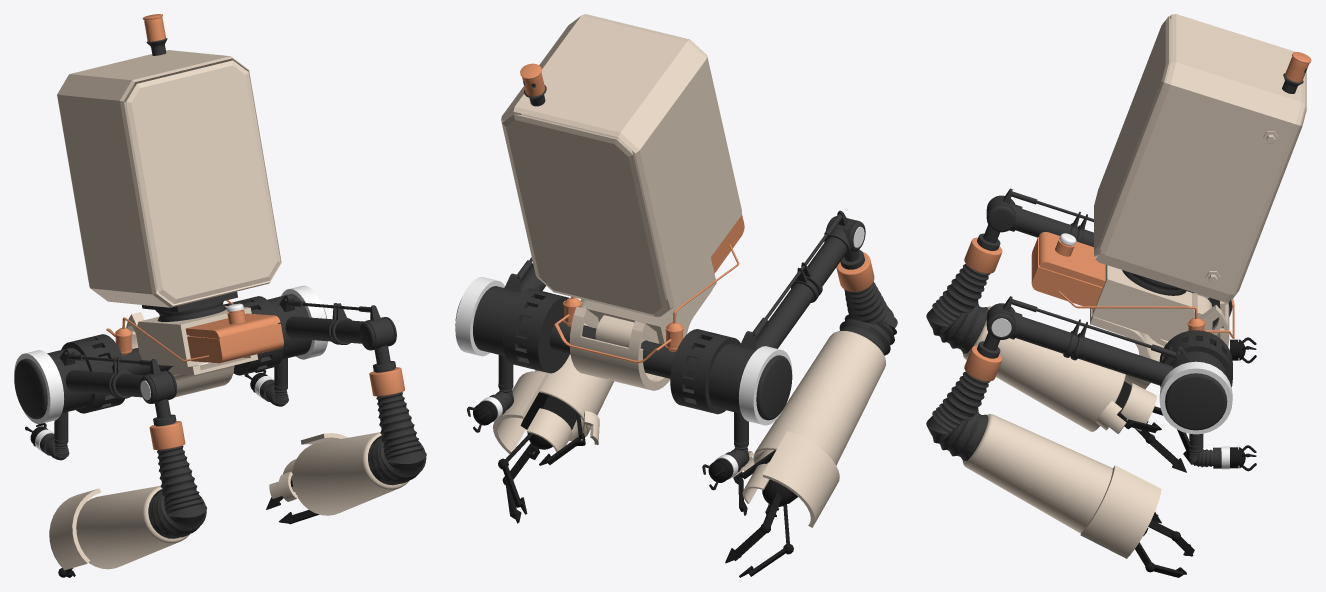
File: v_texturing.fbx
The picture shows the model from 3 angles, left to right: view 1: azimuth 30°, elevation 25°; view 2: azimuth 150°, elevation 25°; view 3: azimuth 270°, elevation 25°; orthographic projection. The views are drawn at different scales.
Parts seen in each view (by area): view 1: Main_Body, Arm_Hinge_R, Bottom_Frame, Elbow_Guard_L, Elbow_Guard_R, Arm_Hinge_L, Pipe_Connecting_L, Pipe_Connecting_R, Hand_Detes_Covering_R, Bottom_Frame_B, Arms_Top_L, Arms_Top_R (+8 smaller); view 2: Main_Body, Arm_Hinge_R, Arm_Hinge_L, Elbow_Guard_R, Bottom_Frame_B, Bottom_Frame, Hand_Detes_Covering_R, Arms_Top_R, Elbow_Guard_L, Pipe_Connecting_R, Hand_Detes_Covering_L, Steam_Cylinders (+11 smaller); view 3: Main_Body, Elbow_Guard_L, Bottom_Frame, Arm_Hinge_L, Elbow_Guard_R, Hand_Detes_Covering_L, Arms_Top_L, Pipe_Connecting_L, Pipe_Connecting_R, Bottom_Frame_B, Arms_Top_R, Arms_Elbow_L (+12 smaller).
Boxes of the visible parts, left/top/right/bottom form: Main_Body: left=57, top=50, right=281, bottom=311; Arm_Hinge_R: left=14, top=334, right=173, bottom=444; Bottom_Frame: left=135, top=303, right=283, bottom=366; Elbow_Guard_L: left=292, top=432, right=409, bottom=515; Elbow_Guard_R: left=76, top=485, right=189, bottom=569; Arm_Hinge_L: left=223, top=285, right=370, bottom=390; Pipe_Connecting_L: left=368, top=392, right=426, bottom=485; Pipe_Connecting_R: left=148, top=445, right=206, bottom=538; Hand_Detes_Covering_R: left=49, top=488, right=100, bottom=570; Bottom_Frame_B: left=126, top=312, right=258, bottom=397; Arms_Top_L: left=285, top=303, right=369, bottom=344; Arms_Top_R: left=65, top=356, right=150, bottom=398; Main_Body: left=501, top=14, right=741, bottom=317; Arm_Hinge_R: left=641, top=214, right=842, bottom=447; Arm_Hinge_L: left=455, top=257, right=596, bottom=389; Elbow_Guard_R: left=753, top=331, right=885, bottom=497; Bottom_Frame_B: left=569, top=290, right=712, bottom=390; Bottom_Frame: left=585, top=213, right=744, bottom=347; Hand_Detes_Covering_R: left=762, top=431, right=839, bottom=527; Arms_Top_R: left=756, top=228, right=850, bottom=349; Elbow_Guard_L: left=535, top=299, right=613, bottom=440; Pipe_Connecting_R: left=839, top=281, right=897, bottom=355; Hand_Detes_Covering_L: left=493, top=371, right=548, bottom=453; Steam_Cylinders: left=554, top=244, right=739, bottom=363; Main_Body: left=1094, top=14, right=1306, bottom=302; Elbow_Guard_L: left=962, top=414, right=1112, bottom=533; Bottom_Frame: left=1031, top=232, right=1212, bottom=341; Arm_Hinge_L: left=1011, top=299, right=1232, bottom=450; Elbow_Guard_R: left=962, top=306, right=1125, bottom=431; Hand_Detes_Covering_L: left=1080, top=465, right=1161, bottom=558; Arms_Top_L: left=1009, top=311, right=1173, bottom=385; Pipe_Connecting_L: left=926, top=371, right=990, bottom=461; Pipe_Connecting_R: left=926, top=264, right=990, bottom=353; Bottom_Frame_B: left=1090, top=294, right=1229, bottom=361; Arms_Top_R: left=1009, top=204, right=1093, bottom=345; Arms_Elbow_L: left=964, top=332, right=1002, bottom=381.
Size of the model in its own units: 95.49 by 149 by 107.
